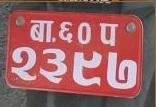0: (77, 22, 90, 43)
2: (10, 46, 37, 81)
3: (40, 47, 65, 83)
6: (58, 20, 73, 43)
7: (107, 51, 138, 89)
9: (72, 50, 103, 84)
ba: (29, 19, 56, 44)
pa: (99, 21, 118, 48)
